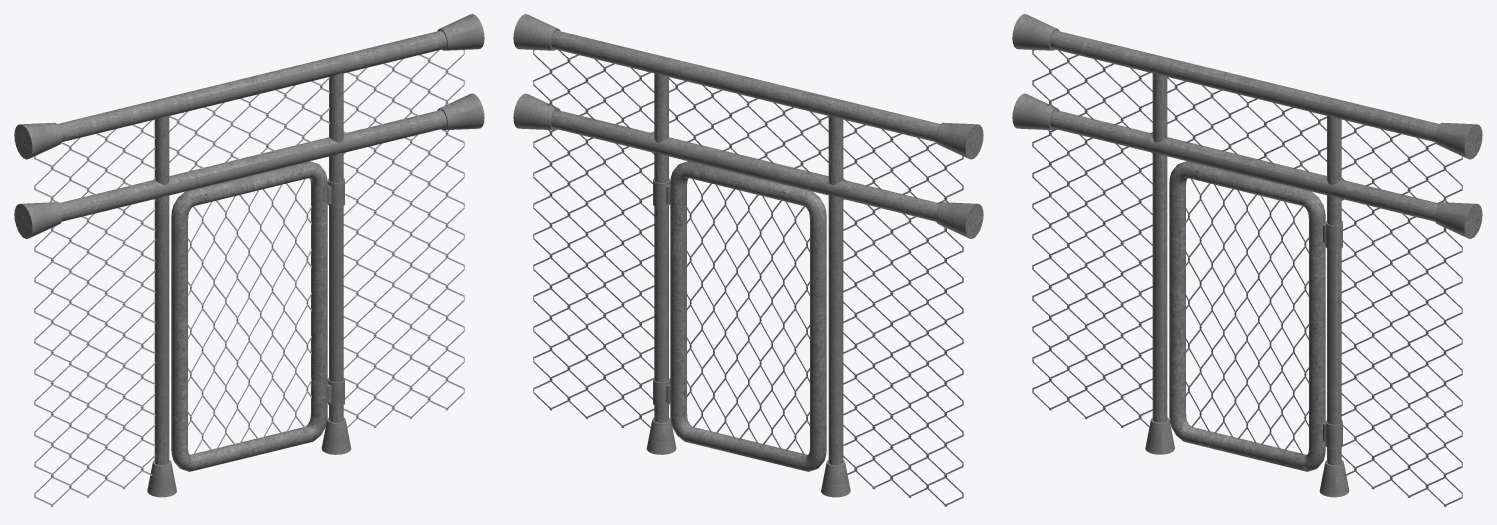
File: ChainFence01_v2.FBX
3 views of the same model, side by side, from view 1: azimuth 30°, elevation 25°; view 2: azimuth 150°, elevation 25°; view 3: azimuth 330°, elevation 25° (orthographic).
Parts seen in each view (by area): view 1: Plane001, Cylinder028, Cylinder030, Cylinder029, Plane002, Cylinder031, Cylinder042, Cylinder032, Cylinder037, Cylinder038; view 2: Plane001, Cylinder028, Cylinder030, Cylinder029, Plane002, Cylinder031, Cylinder042, Cylinder032, Cylinder037, Cylinder038; view 3: Plane001, Cylinder028, Cylinder030, Cylinder029, Plane002, Cylinder031, Cylinder042, Cylinder032, Cylinder038, Cylinder037.
Part boxes in pixels (x1,y1,x2,y2): Plane001: (34, 50, 464, 506); Cylinder028: (171, 161, 327, 471); Cylinder030: (57, 30, 446, 141); Cylinder029: (57, 110, 446, 221); Plane002: (188, 179, 311, 454); Cylinder031: (154, 116, 169, 465); Cylinder042: (14, 14, 484, 238); Cylinder032: (329, 73, 343, 422); Cylinder037: (321, 417, 351, 454); Cylinder038: (147, 460, 176, 497); Plane001: (533, 50, 963, 506); Cylinder028: (670, 161, 826, 471); Cylinder030: (551, 30, 940, 141); Cylinder029: (551, 110, 940, 221); Plane002: (686, 179, 809, 454); Cylinder031: (828, 116, 843, 465); Cylinder042: (513, 14, 983, 238); Cylinder032: (654, 73, 668, 422); Cylinder037: (646, 417, 676, 454); Cylinder038: (821, 460, 850, 497); Plane001: (1032, 50, 1462, 506); Cylinder028: (1169, 161, 1325, 471); Cylinder030: (1050, 30, 1439, 141); Cylinder029: (1050, 110, 1438, 221); Plane002: (1185, 179, 1308, 454); Cylinder031: (1152, 73, 1167, 422); Cylinder042: (1012, 14, 1482, 238); Cylinder032: (1327, 115, 1341, 465); Cylinder038: (1145, 417, 1174, 454); Cylinder037: (1319, 460, 1349, 497).
Size of the model in its own units: 496 by 419 by 34.37.
1 material, 1 textured.
